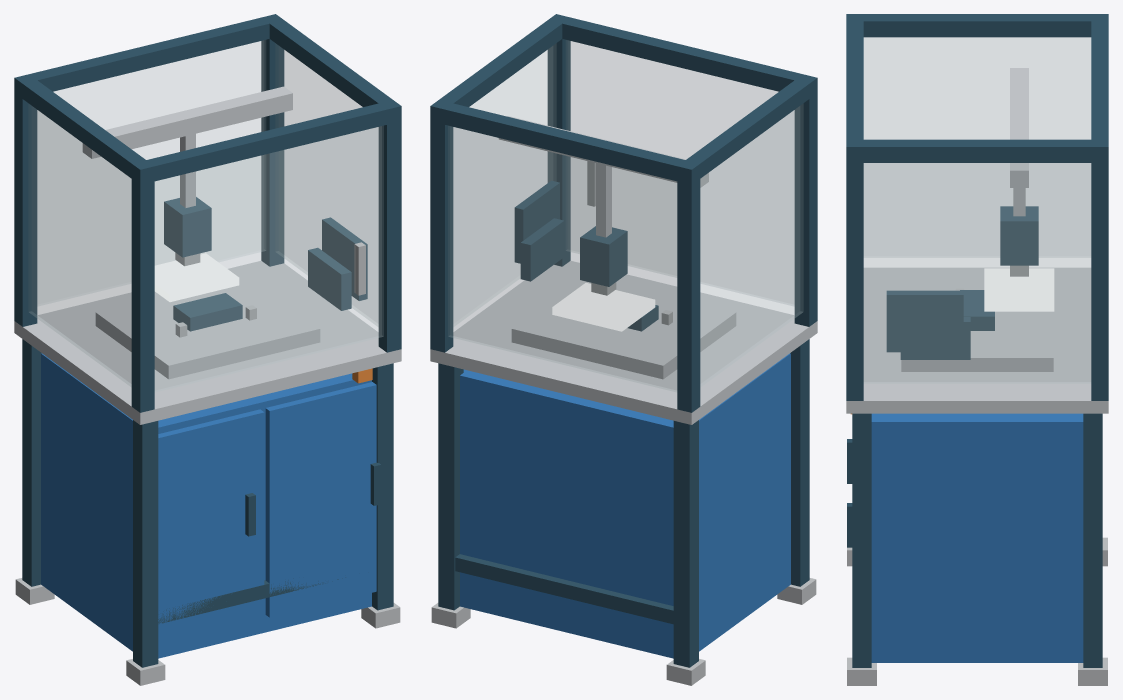
File: mark.glb
3 renders of one model, left to right at view 1: azimuth 30°, elevation 25°; view 2: azimuth 150°, elevation 25°; view 3: azimuth 270°, elevation 25°, orthographic. The views are drawn at different scales.
Parts seen in each view (by area): view 1: front guard, cabinet door (×2), side guard (×2), rear guard, lower control cabinet, cell extrusion (×4), working surface, steel support (×3), top cross extrusion (×2), fixture plate, top side extrusion (×2), camera bridge (+9 smaller); view 2: lower control cabinet, rear guard, side guard (×2), front guard, cell extrusion (×4), working surface, steel support (×3), top cross extrusion (×2), fixture plate, top side extrusion (×2), base cross rail, inspection light (+6 smaller); view 3: side guard (×2), lower control cabinet, working surface, top side extrusion (×2), steel support (×2), cell extrusion (×2), fixture plate, operator panel, top cross extrusion (×2), inspection light, inspection device, camera bridge (+3 smaller).
Part boxes in pixels (x1,y1,x2,y2): front guard: [155, 126, 383, 391]; cabinet door (×2): [158, 382, 376, 644]; side guard (×2): [29, 44, 377, 386]; rear guard: [38, 40, 265, 305]; lower control cabinet: [41, 353, 371, 658]; cell extrusion (×4): [14, 14, 401, 412]; working surface: [14, 260, 401, 424]; steel support (×3): [22, 339, 393, 667]; top cross extrusion (×2): [14, 15, 401, 183]; fixture plate: [95, 275, 320, 379]; top side extrusion (×2): [15, 16, 400, 183]; camera bridge: [82, 86, 292, 158]; lower control cabinet: [460, 353, 790, 658]; rear guard: [448, 126, 676, 391]; side guard (×2): [454, 44, 802, 386]; front guard: [566, 40, 793, 305]; cell extrusion (×4): [430, 14, 817, 412]; working surface: [430, 260, 817, 424]; steel support (×3): [438, 339, 809, 667]; top cross extrusion (×2): [430, 14, 817, 184]; fixture plate: [511, 279, 736, 379]; top side extrusion (×2): [431, 15, 817, 184]; base cross rail: [455, 554, 673, 624]; inspection light: [552, 282, 655, 331]; side guard (×2): [864, 37, 1090, 383]; lower control cabinet: [871, 413, 1083, 662]; working surface: [846, 267, 1108, 413]; top side extrusion (×2): [846, 14, 1107, 162]; steel support (×2): [852, 413, 1102, 667]; cell extrusion (×2): [846, 139, 1108, 400]; fixture plate: [901, 280, 1053, 371]; operator panel: [886, 290, 963, 352]; top cross extrusion (×2): [846, 14, 1108, 162]; inspection light: [984, 268, 1054, 311]; inspection device: [1000, 206, 1038, 265]; camera bridge: [1010, 68, 1028, 187].
Bounding box in the file's own units: 0.9 × 1.7 × 0.75.
